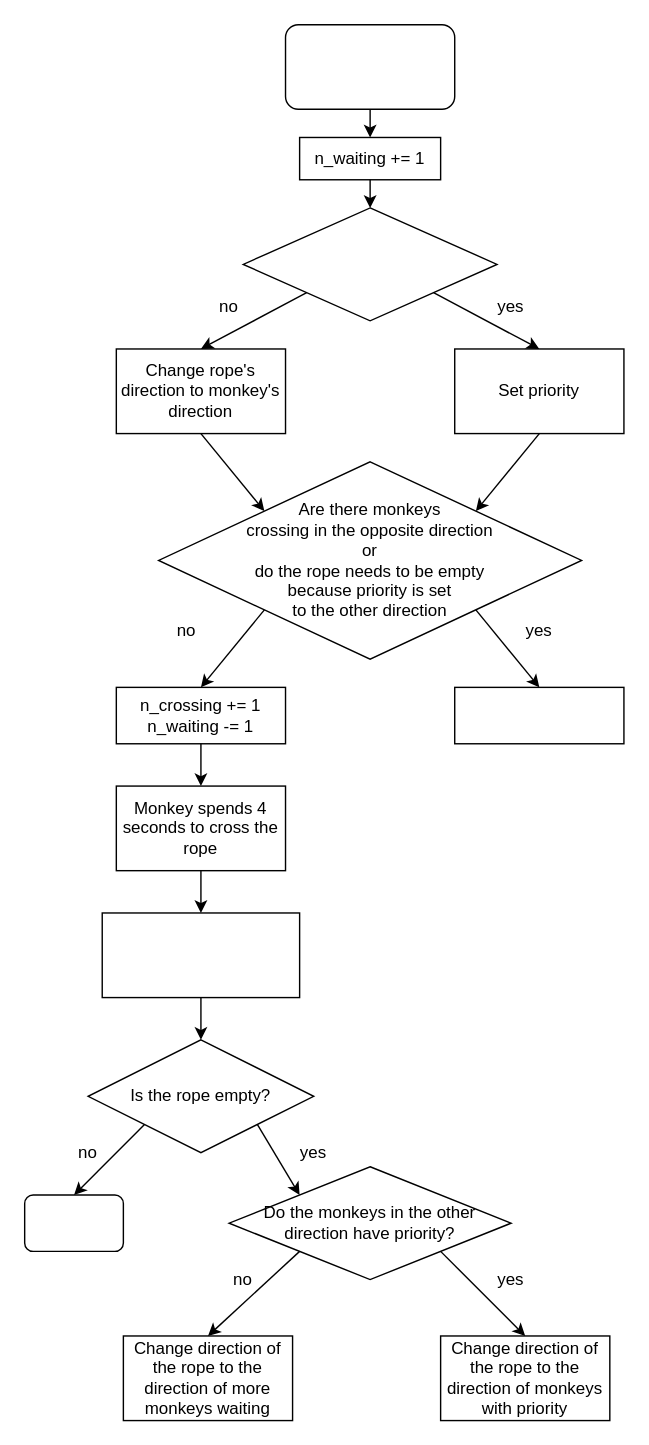
This 649x1445 diagram has some shape labels left out. The shapes that lost their labels are listed below. From the top down, each one's centre as x and y in pixels, then its label:
At point 369,66: "A monkey arrives to the rope".
At point 369,264: "Are there monkeys crossing in the opposit direction?".
At point 538,715: "wait()".
At point 200,955: "Monkey leaves the rope notifyAll()".
At point 73,1222: "End".
